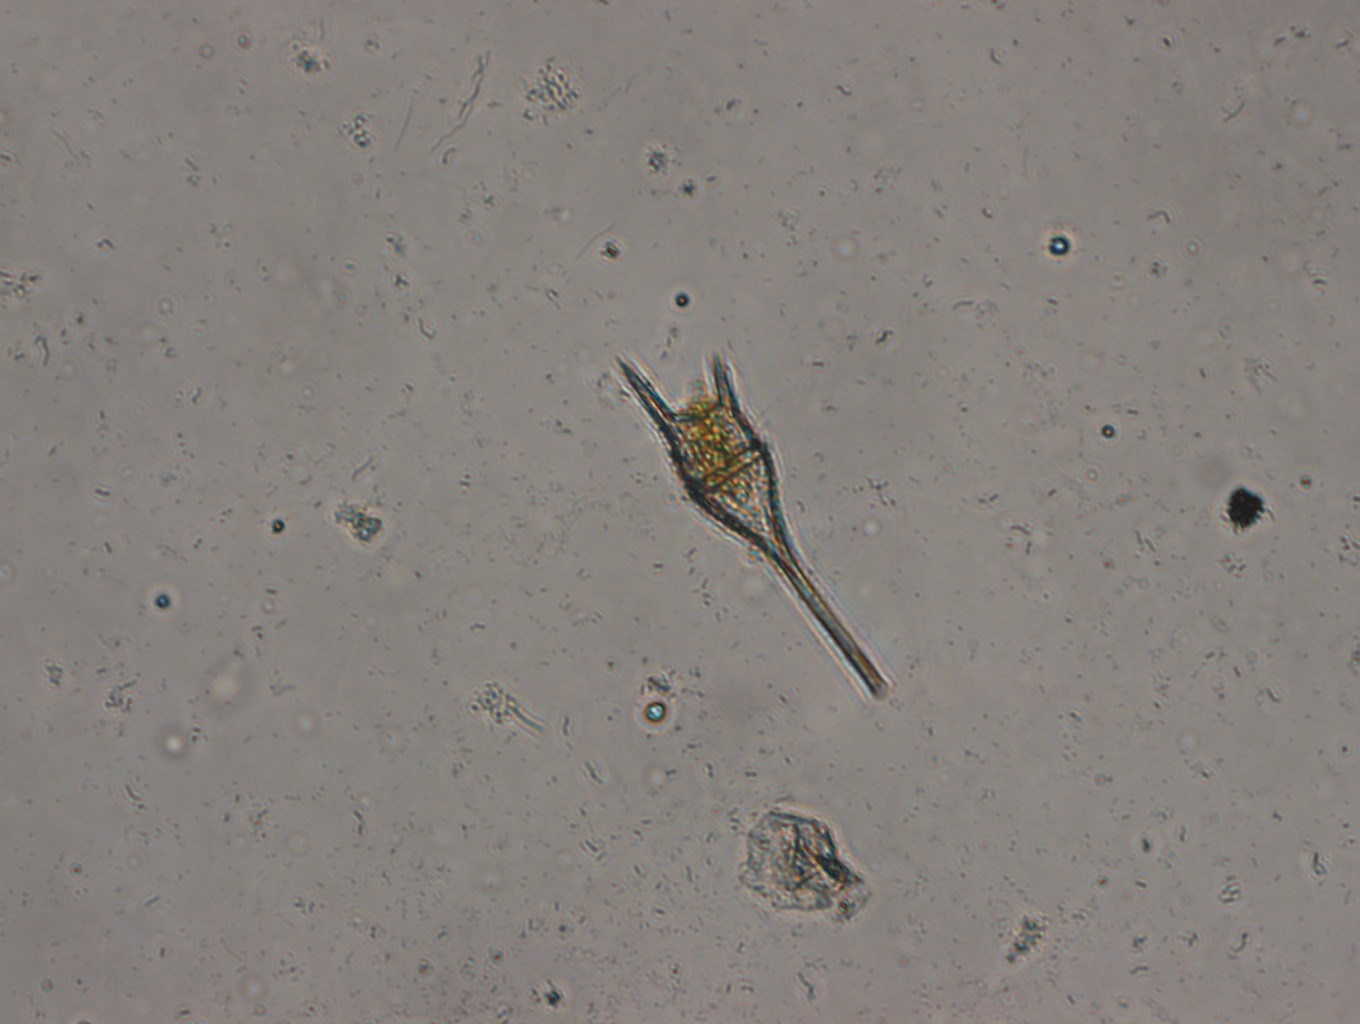ceratium furca: (609, 343, 891, 714)
